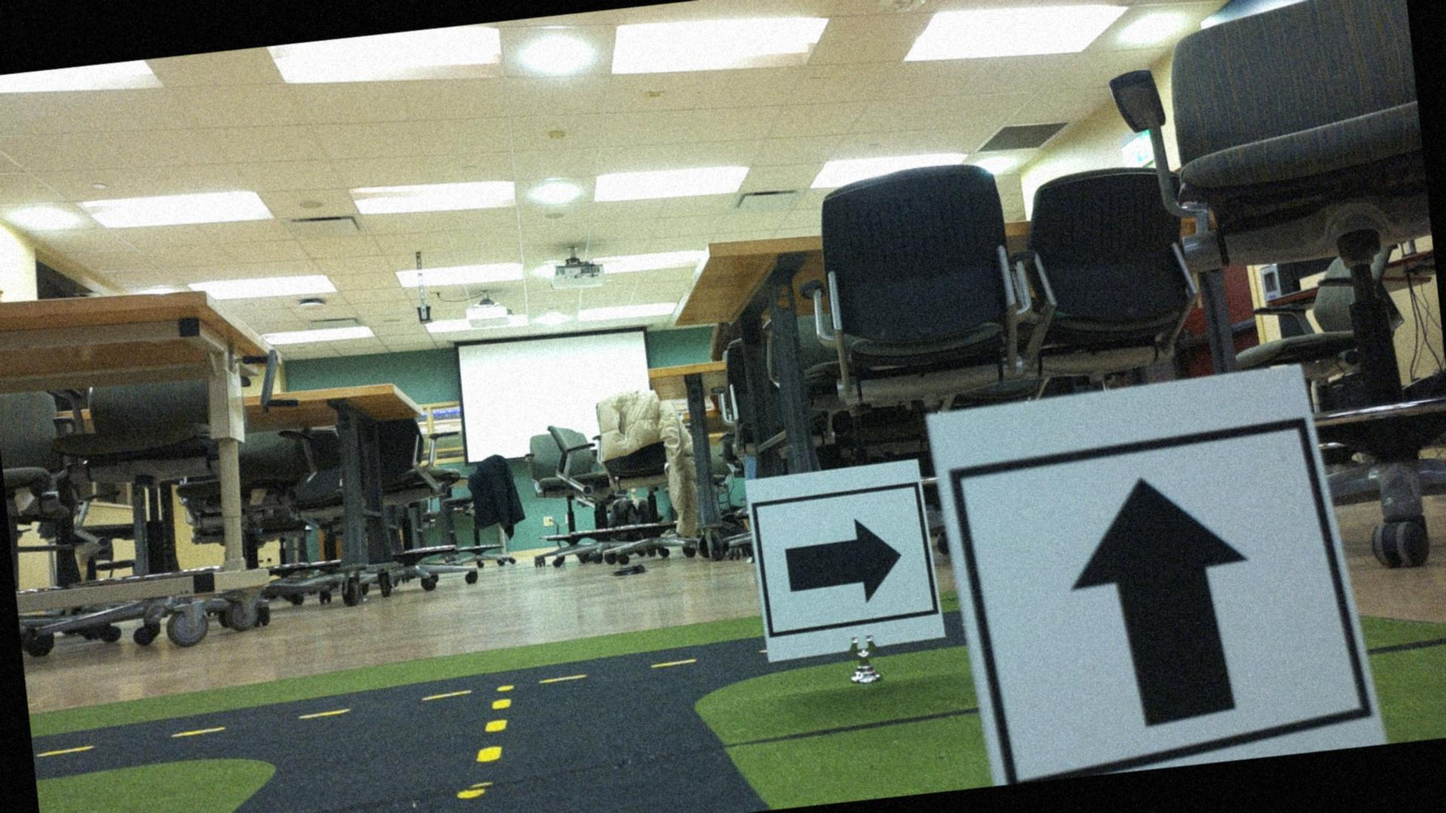gostraight: (954, 382, 1338, 775)
turnleft: (743, 466, 935, 662)
yellowline: (429, 696, 524, 812)
